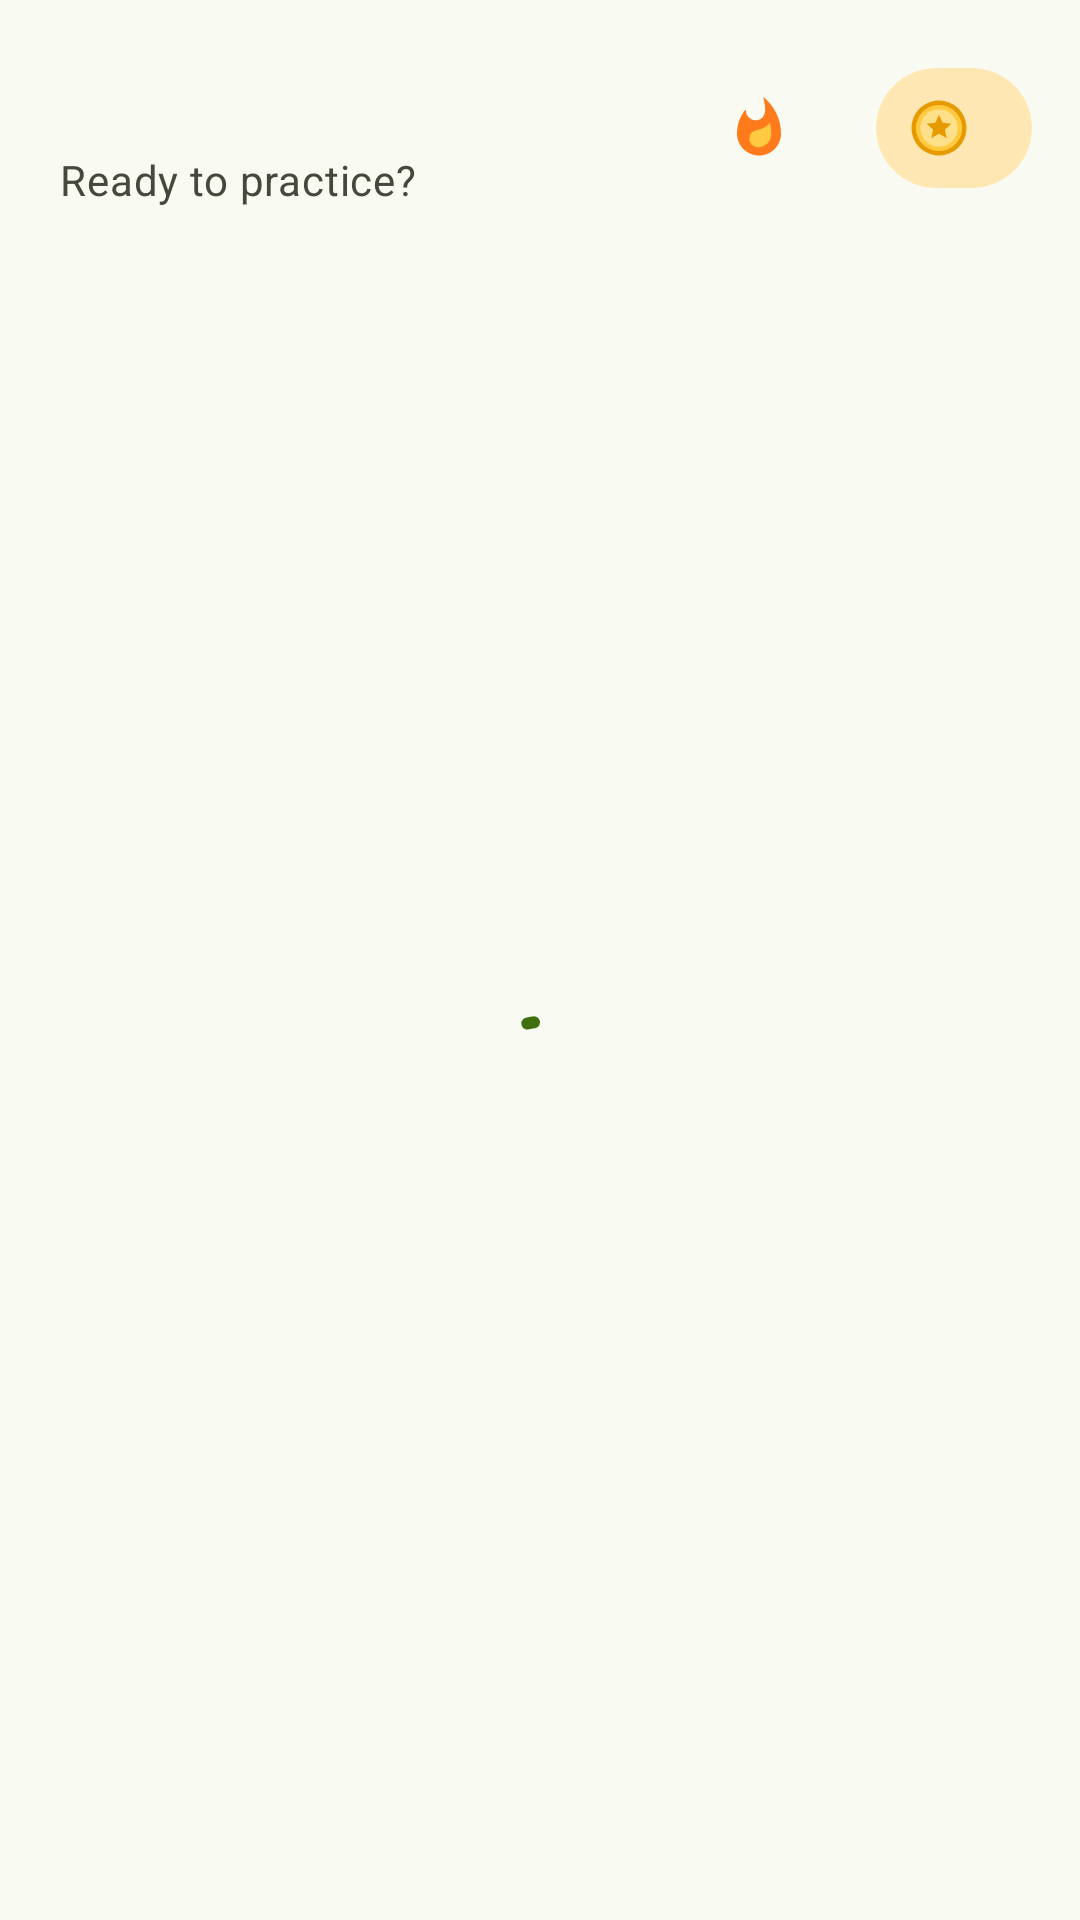

Screen size 1080 x 1920. Icon name, then its center in pixels as point (x, y):
coin: point (939, 128)
flame: point (759, 126)
